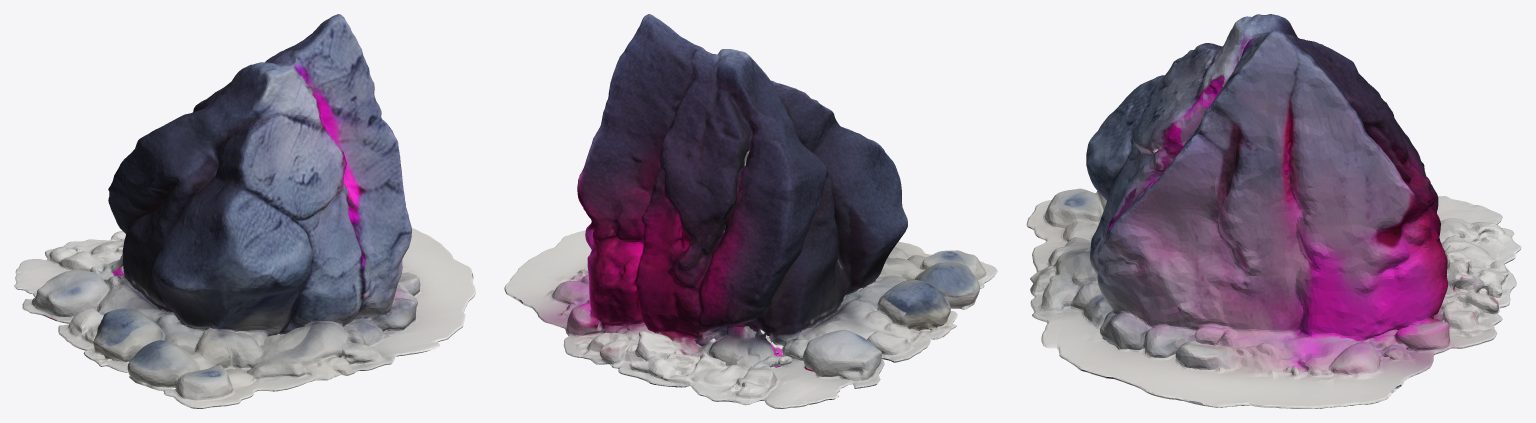
Rendered from shore-stone-3-generated-2026-05-17T19-58-56-912Z.glb.
The picture shows the model from 3 angles, left to right: view 1: azimuth 30°, elevation 25°; view 2: azimuth 150°, elevation 25°; view 3: azimuth 270°, elevation 25°; orthographic projection. The views are drawn at different scales.
Parts seen in each view (by area): view 1: temp_mesh.ply; view 2: temp_mesh.ply; view 3: temp_mesh.ply.
Part boxes in pixels (x1=…): temp_mesh.ply: x1=14, y1=14, x2=475, y2=408; temp_mesh.ply: x1=504, y1=14, x2=997, y2=408; temp_mesh.ply: x1=1026, y1=14, x2=1521, y2=408.
Size of the model in its own units: 1.97 by 1.31 by 1.86.
Materials: 1 (1 with a texture image).
